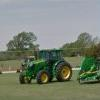Tractor: (10, 40, 77, 86)
